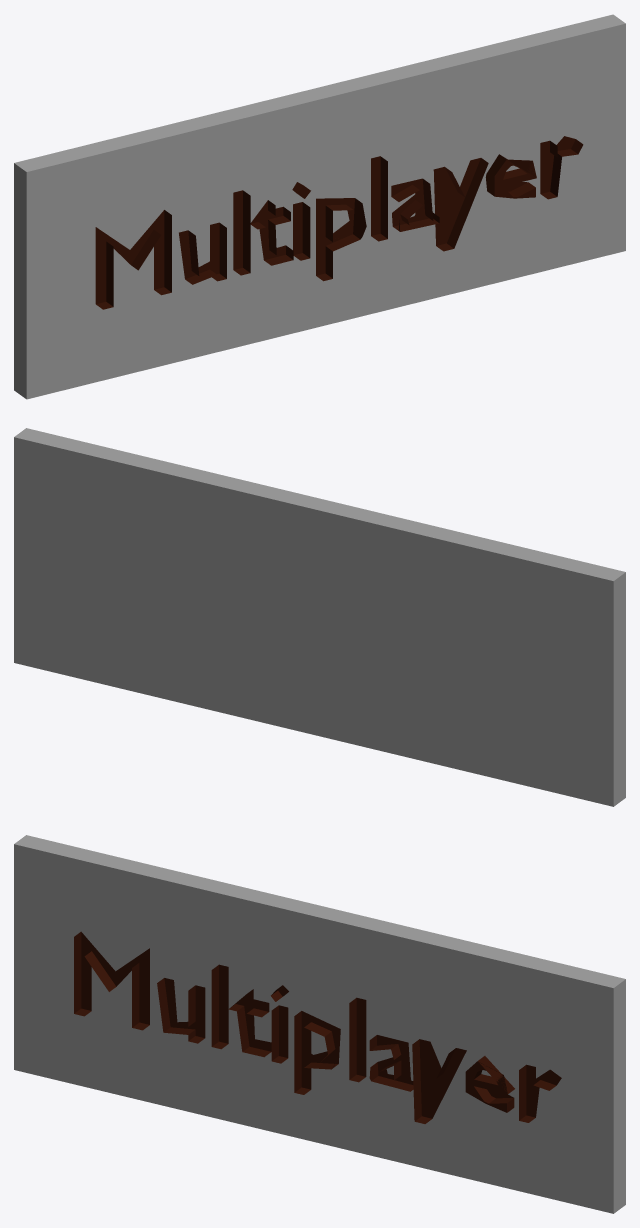
Rendered from Multiplayer.obj.
3 views of the same model, one above another, from view 1: azimuth 30°, elevation 25°; view 2: azimuth 150°, elevation 25°; view 3: azimuth 330°, elevation 25° (orthographic).
Parts seen in each view (by area): view 1: Mesh; view 2: Mesh; view 3: Mesh.
Part boxes in pixels (x1=…): Mesh: x1=14, y1=14, x2=625, y2=399; Mesh: x1=14, y1=428, x2=625, y2=806; Mesh: x1=14, y1=835, x2=625, y2=1213.
Bounding box in the file's own units: 5.54 × 2 × 0.3665.
